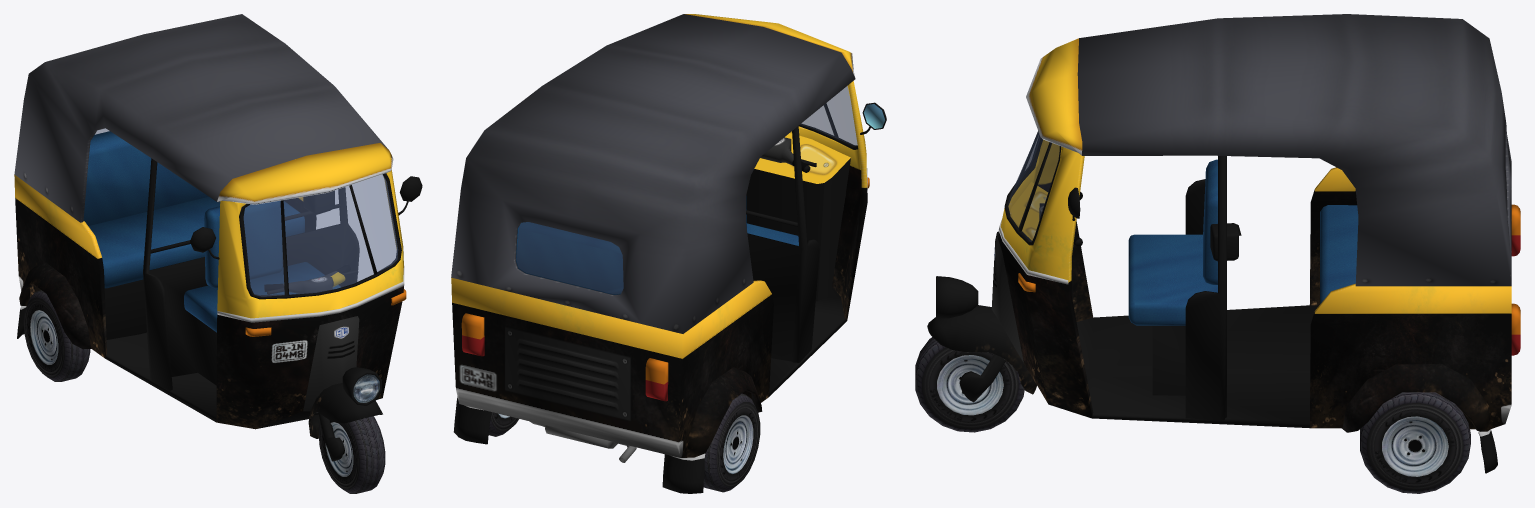
Rendered from keke-6.glb.
3 views of the same model, side by side, from view 1: azimuth 30°, elevation 25°; view 2: azimuth 150°, elevation 25°; view 3: azimuth 270°, elevation 25° (orthographic). The views are drawn at different scales.
Visible parts, largest first — view 1: Plane.001_3, Plane_2, Cylinder_4, Plane.003_10, Cylinder.001_5, Plane.005_12, Plane.004_11, Plane.010_18, Cylinder.002_6, Sphere_7, Plane.006_13, Cylinder.003_9 (+2 smaller); view 2: Plane.001_3, Plane_2, Cylinder_4, Plane.002_8, Plane.003_10, Cylinder.001_5, Plane.004_11, Plane.012_21, Plane.006_13, Plane.005_12, Plane.008_15, Cylinder.003_9; view 3: Plane.001_3, Plane_2, Cylinder_4, Cylinder.001_5, Plane.004_11, Plane.005_12, Cylinder.002_6, Plane.003_10, Sphere_7, Plane.006_13, Plane.010_18, Plane.002_8 (+1 smaller).
Part boxes in pixels (left/top/right/bottom): Plane.001_3: left=14, top=14, right=388, bottom=222; Plane_2: left=14, top=170, right=403, bottom=429; Cylinder_4: left=83, top=131, right=359, bottom=390; Plane.003_10: left=95, top=128, right=398, bottom=296; Cylinder.001_5: left=23, top=290, right=385, bottom=493; Plane.005_12: left=217, top=143, right=393, bottom=204; Plane.004_11: left=19, top=262, right=90, bottom=349; Plane.010_18: left=239, top=173, right=401, bottom=299; Cylinder.002_6: left=308, top=383, right=382, bottom=438; Sphere_7: left=315, top=367, right=381, bottom=461; Plane.006_13: left=190, top=176, right=422, bottom=336; Cylinder.003_9: left=264, top=264, right=358, bottom=294; Plane.001_3: left=451, top=14, right=855, bottom=333; Plane_2: left=451, top=81, right=867, bottom=457; Cylinder_4: left=516, top=126, right=819, bottom=362; Plane.002_8: left=746, top=133, right=850, bottom=301; Plane.003_10: left=516, top=86, right=857, bottom=294; Cylinder.001_5: left=488, top=393, right=760, bottom=492; Plane.004_11: left=687, top=367, right=762, bottom=457; Plane.012_21: left=453, top=396, right=705, bottom=493; Plane.006_13: left=461, top=102, right=886, bottom=401; Plane.005_12: left=685, top=14, right=855, bottom=77; Plane.008_15: left=529, top=421, right=636, bottom=462; Cylinder.003_9: left=760, top=137, right=816, bottom=172; Plane.001_3: left=1077, top=14, right=1511, bottom=286; Plane_2: left=991, top=139, right=1511, bottom=429; Cylinder_4: left=1128, top=156, right=1358, bottom=420; Cylinder.001_5: left=915, top=337, right=1470, bottom=493; Plane.004_11: left=1342, top=364, right=1491, bottom=432; Plane.005_12: left=1026, top=38, right=1082, bottom=155; Cylinder.002_6: left=927, top=305, right=1036, bottom=394; Plane.003_10: left=1008, top=132, right=1059, bottom=241; Sphere_7: left=936, top=276, right=1011, bottom=402; Plane.006_13: left=1018, top=187, right=1520, bottom=355; Plane.010_18: left=1004, top=131, right=1061, bottom=245; Plane.002_8: left=1011, top=182, right=1072, bottom=299.
Bounding box in the file's own units: 1.64 × 1.98 × 2.97.
Materials: 4 (3 with a texture image).
